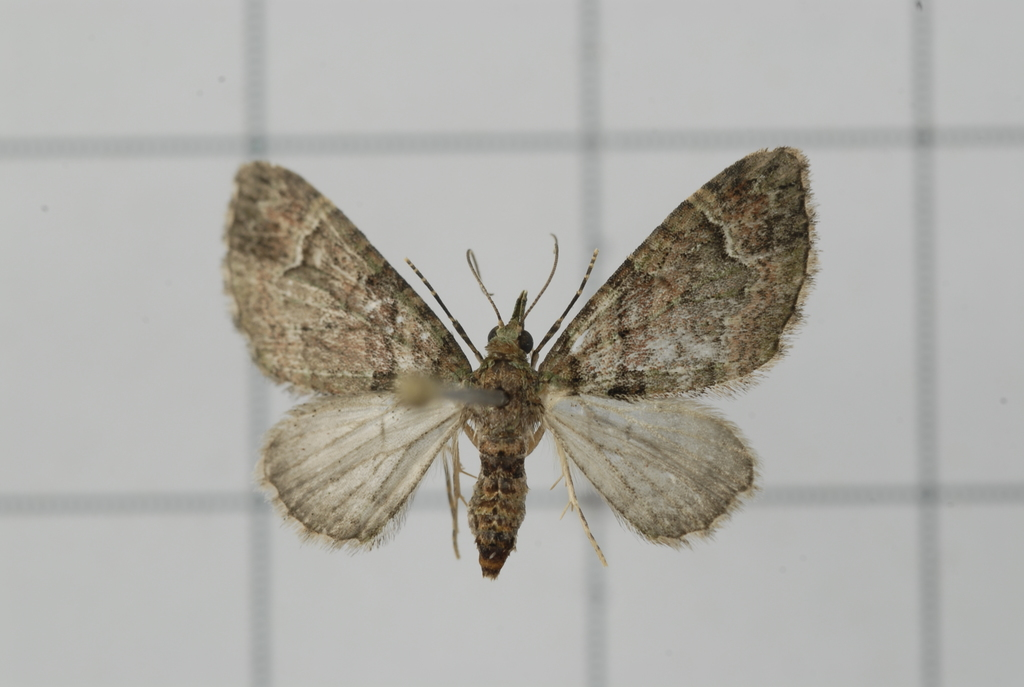Butterfly: (211, 134, 827, 586)
